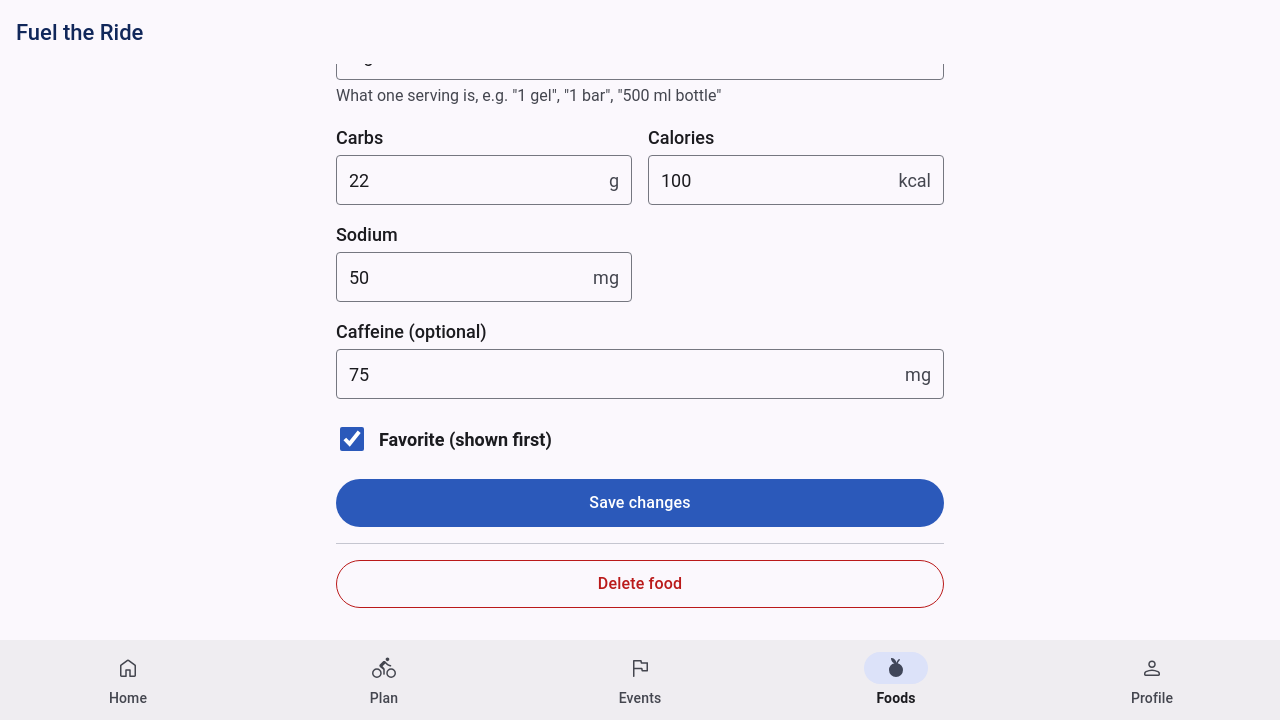
edit and delete food › editing clears caffeine when the field is emptied
The image size is (1280, 720).
(page scrolled)
Clear the field labelled "Caffeine (optional)" at point(621, 374), box [337,350,905,398]
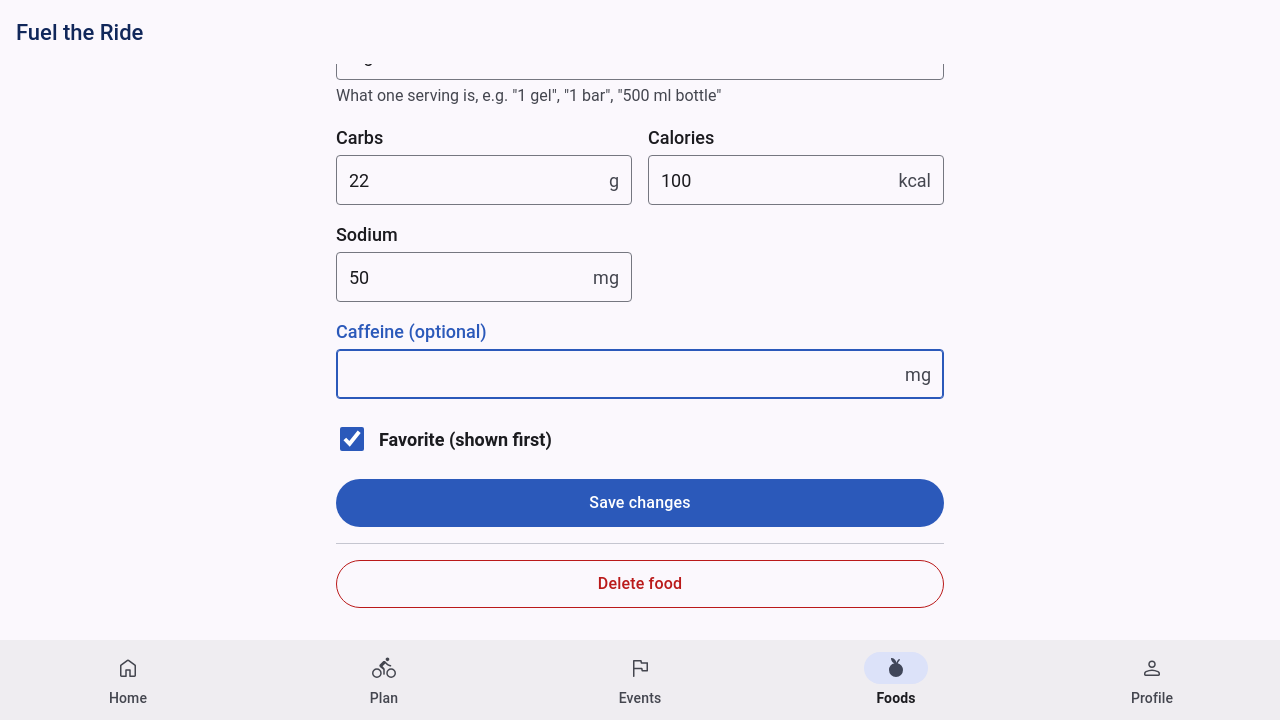
Click the button "Save changes" at point(640, 503), box [336,479,944,527]
(page scrolled)
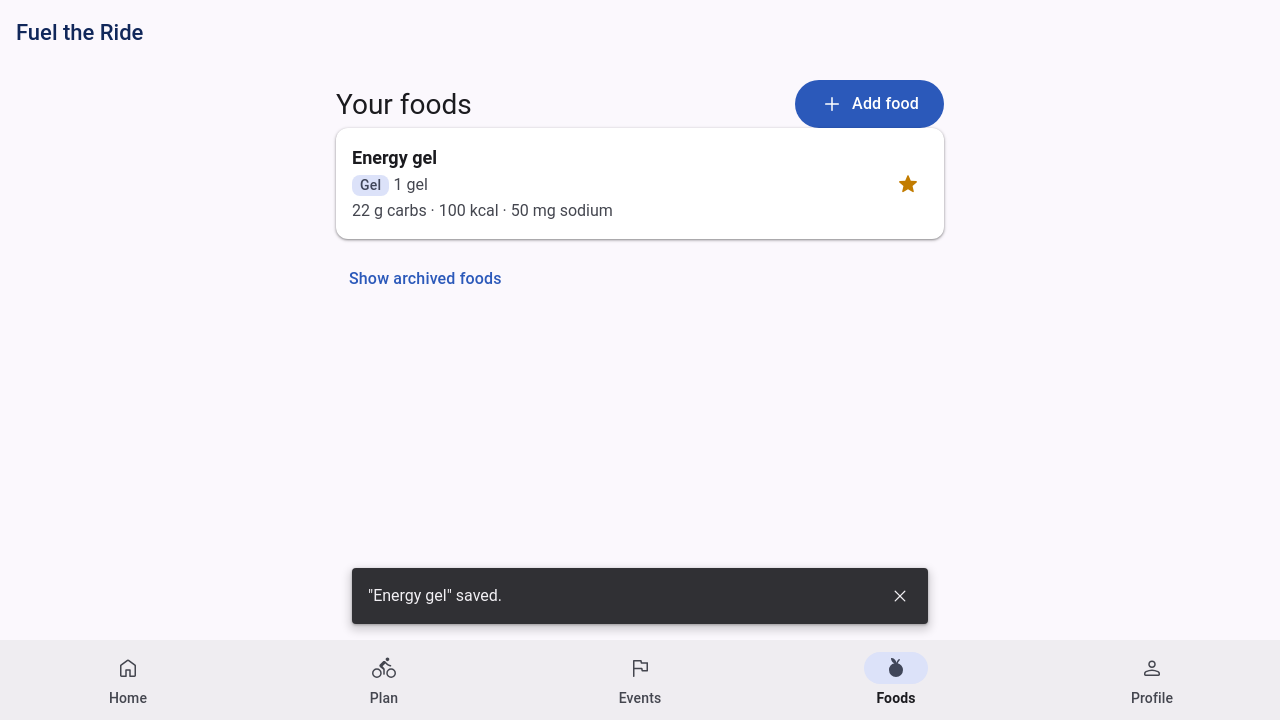
Now the heading "Your foods" is shown, box [336,88,472,120]
